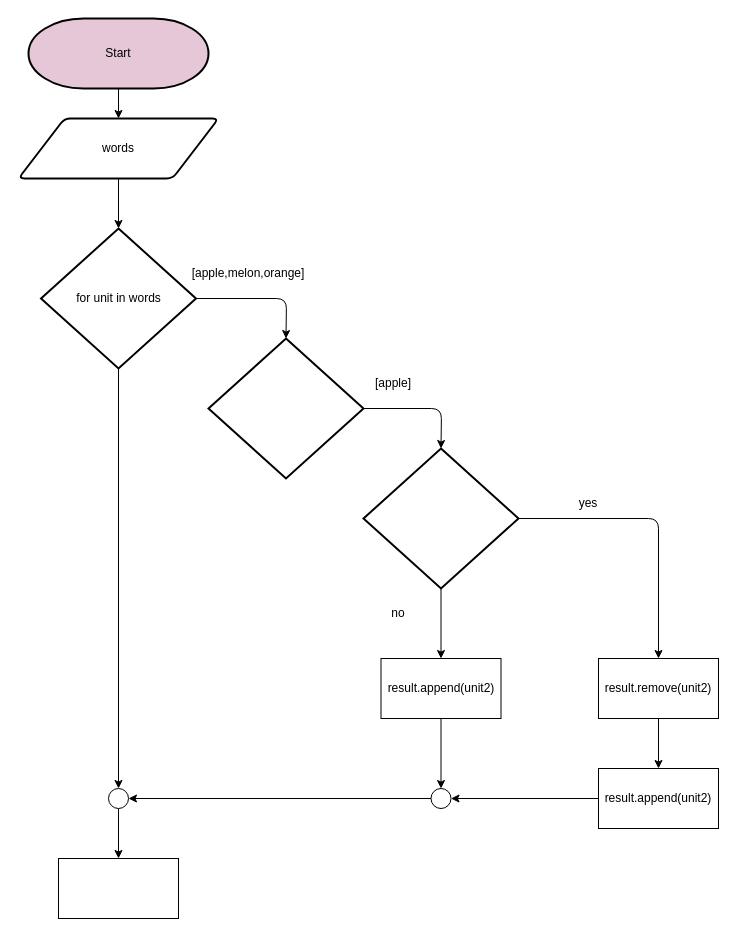
This 736x936 diagram has some shape labels left out. Each missing label, with the box of its shape:
for unit2 in unit: (207, 337, 364, 479)
if unit2 == result: (362, 447, 519, 589)
print(result): (58, 858, 178, 918)
